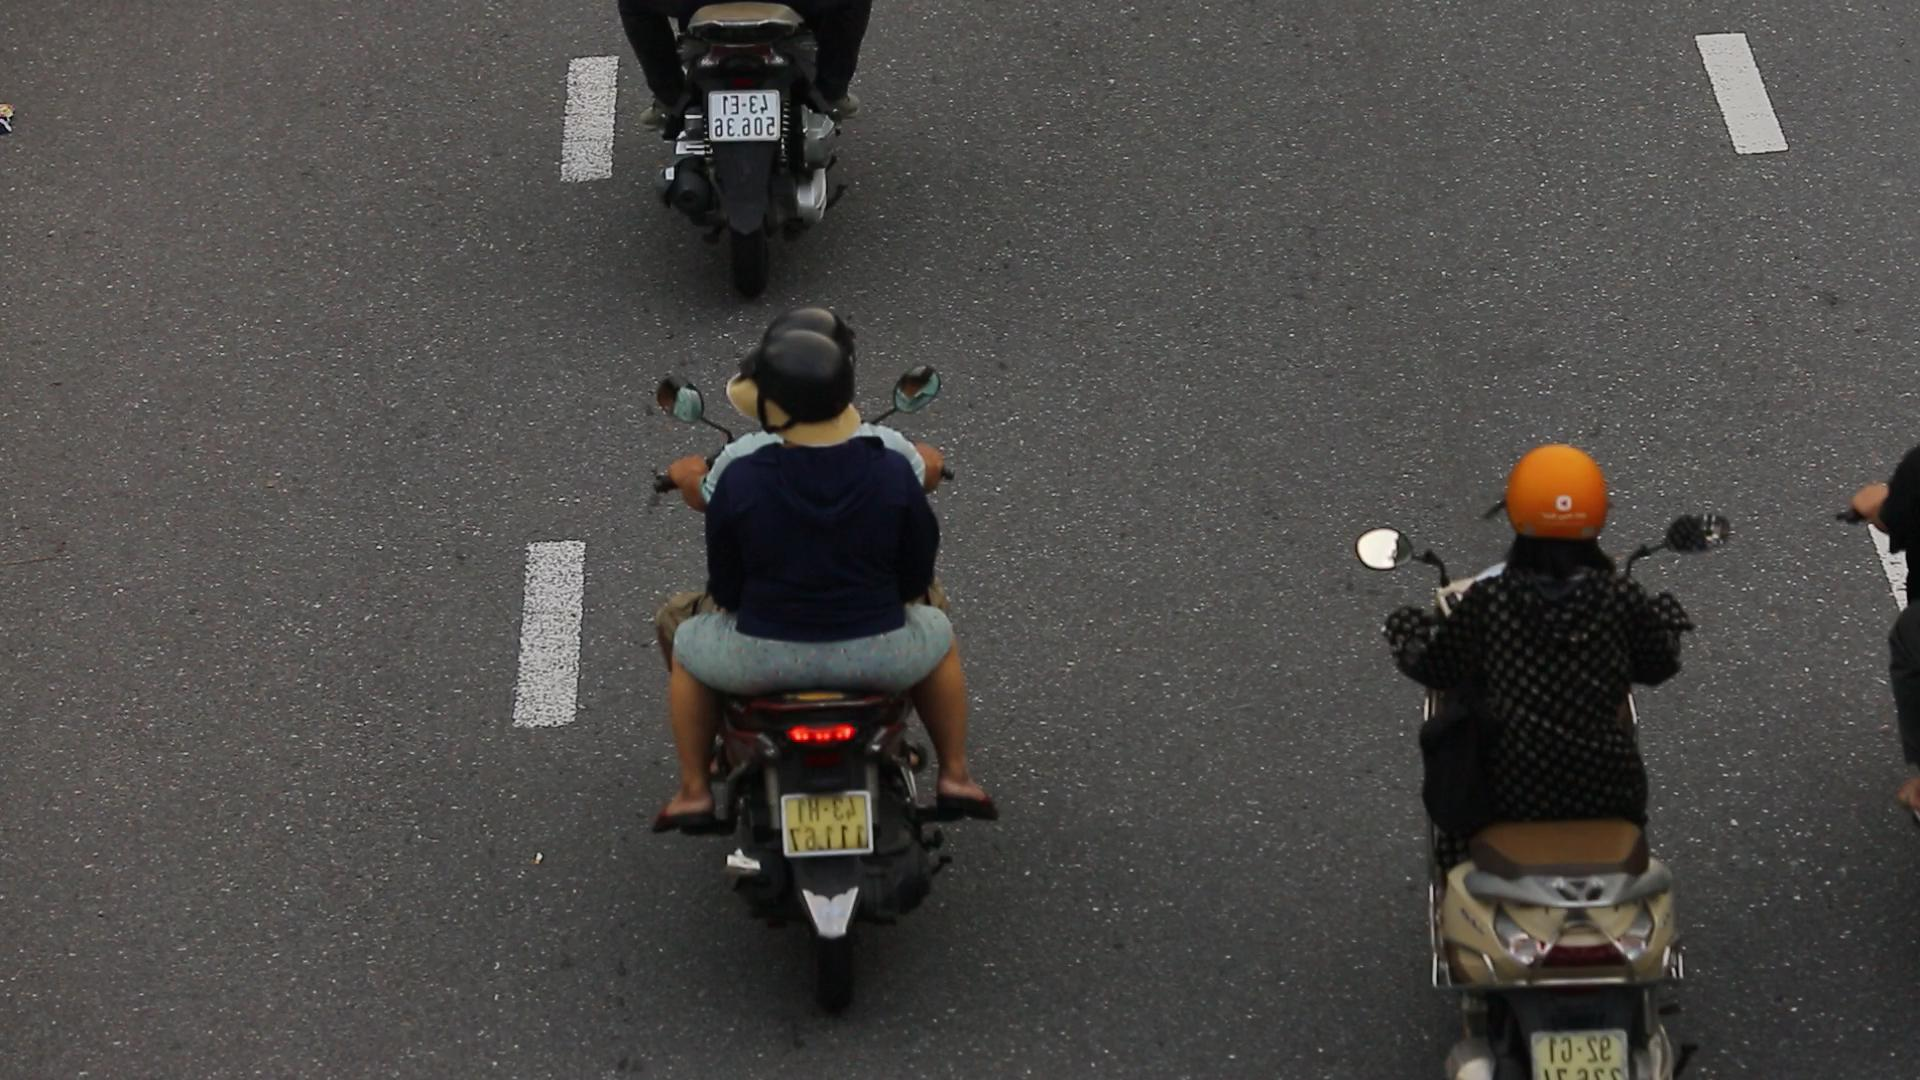motobike: (636, 302, 973, 1009)
